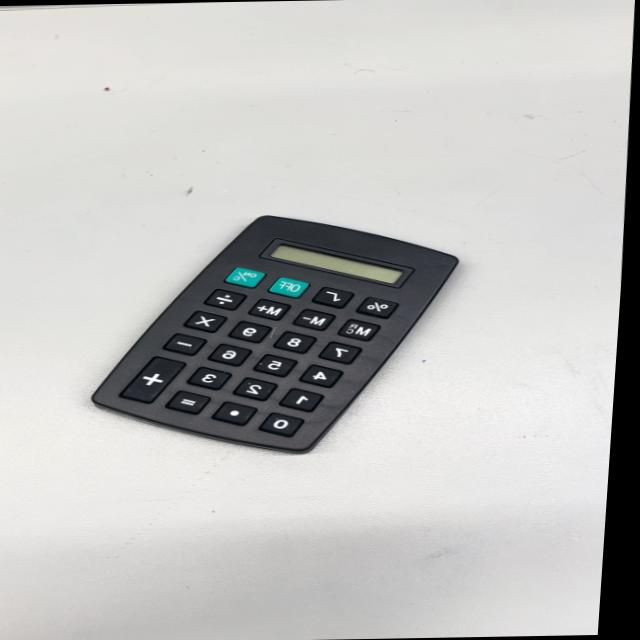calculator: (83, 207, 464, 458)
